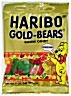grozi_66: (2, 2, 69, 94)
